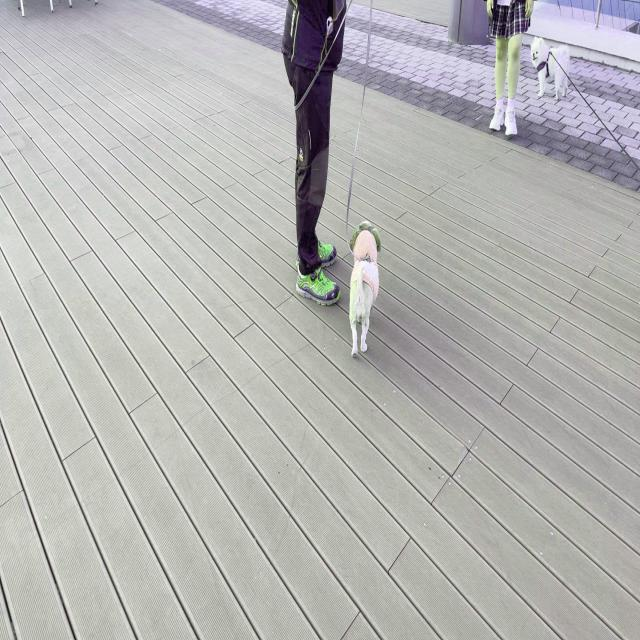Dog: (530, 35, 570, 101)
Leashed_Dog: (307, 0, 380, 357)
